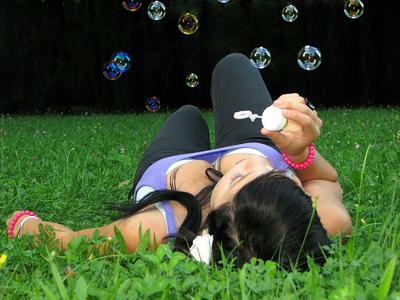person: (8, 41, 354, 278)
